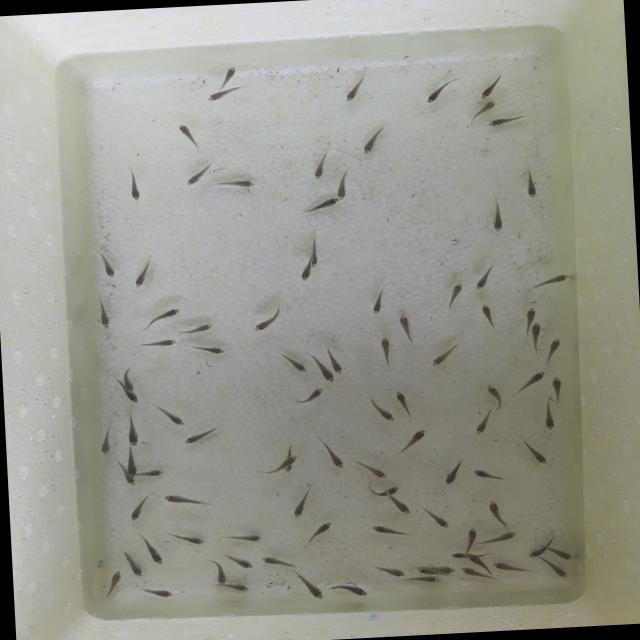fingerling: (355, 123, 391, 156), (519, 164, 545, 207), (336, 74, 372, 105), (422, 76, 454, 108), (288, 487, 320, 519), (317, 436, 345, 470), (144, 304, 182, 329), (532, 272, 572, 295), (308, 150, 336, 182), (184, 160, 216, 187), (252, 308, 288, 332), (182, 424, 221, 446), (430, 340, 460, 368), (402, 424, 430, 454), (124, 493, 152, 523), (487, 112, 528, 132), (203, 85, 246, 104), (467, 99, 498, 125), (309, 354, 334, 386), (488, 197, 509, 234), (134, 258, 158, 290), (304, 520, 333, 546), (473, 264, 495, 298), (425, 508, 456, 532), (177, 122, 200, 154), (476, 74, 504, 100), (162, 493, 210, 508), (516, 372, 548, 394), (487, 498, 512, 526), (369, 400, 398, 424), (447, 280, 470, 310), (294, 386, 328, 406), (213, 179, 257, 194), (326, 344, 346, 377), (104, 565, 124, 598), (369, 288, 392, 316), (96, 428, 116, 460), (441, 458, 462, 488), (299, 198, 338, 214), (301, 576, 325, 602), (470, 412, 492, 440), (178, 319, 214, 336), (492, 558, 530, 574), (226, 532, 264, 548), (372, 522, 409, 538), (260, 554, 297, 570), (334, 172, 355, 200), (143, 536, 164, 564), (480, 302, 500, 330), (524, 443, 548, 466), (332, 582, 366, 598), (163, 408, 190, 428), (124, 550, 142, 580), (519, 306, 538, 334), (125, 170, 142, 201), (484, 381, 505, 406), (364, 461, 390, 481), (390, 496, 416, 516), (195, 342, 227, 358), (376, 564, 408, 580), (483, 531, 519, 545), (277, 356, 308, 372), (308, 240, 324, 270), (101, 254, 118, 282), (395, 389, 412, 417), (550, 375, 568, 401), (473, 468, 502, 484), (544, 337, 564, 360), (396, 314, 413, 341), (141, 338, 176, 351), (359, 487, 400, 498), (540, 404, 556, 432), (227, 554, 255, 570), (218, 66, 240, 86), (121, 361, 135, 392), (100, 300, 114, 330), (378, 334, 392, 364), (142, 586, 172, 600), (530, 321, 546, 347), (176, 534, 210, 546), (117, 464, 135, 486), (215, 558, 228, 588), (298, 260, 314, 284), (278, 453, 300, 470), (128, 418, 141, 446), (126, 448, 138, 478), (411, 574, 441, 586), (551, 544, 573, 560), (550, 560, 569, 578), (469, 552, 488, 570), (464, 528, 481, 548), (459, 566, 487, 577), (126, 392, 144, 409), (216, 584, 250, 592), (143, 467, 164, 479), (527, 546, 545, 558), (450, 550, 468, 562), (436, 564, 455, 574), (417, 566, 439, 574)
